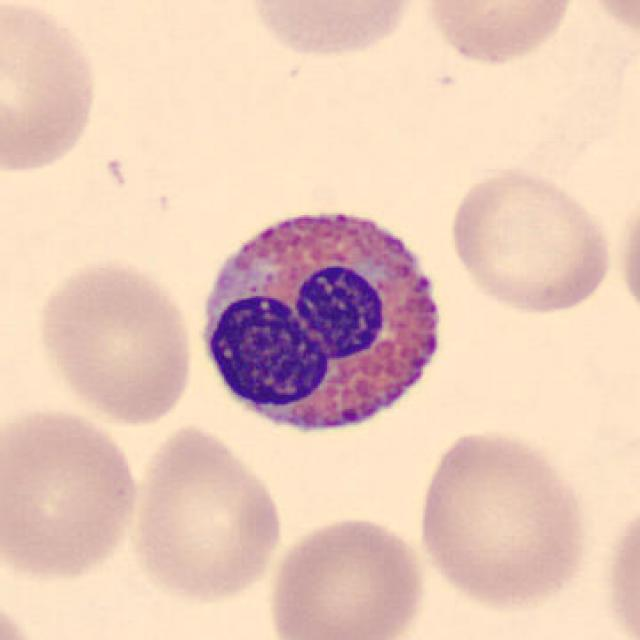Eosinophil: (188, 187, 458, 455)
RBC: (411, 425, 592, 612), (125, 419, 286, 606), (30, 254, 199, 428), (0, 400, 146, 586), (443, 164, 617, 317), (263, 511, 430, 640), (0, 0, 103, 180), (419, 0, 582, 69), (240, 0, 421, 62), (601, 492, 640, 640), (615, 185, 640, 333), (578, 0, 640, 44), (0, 585, 48, 640)
